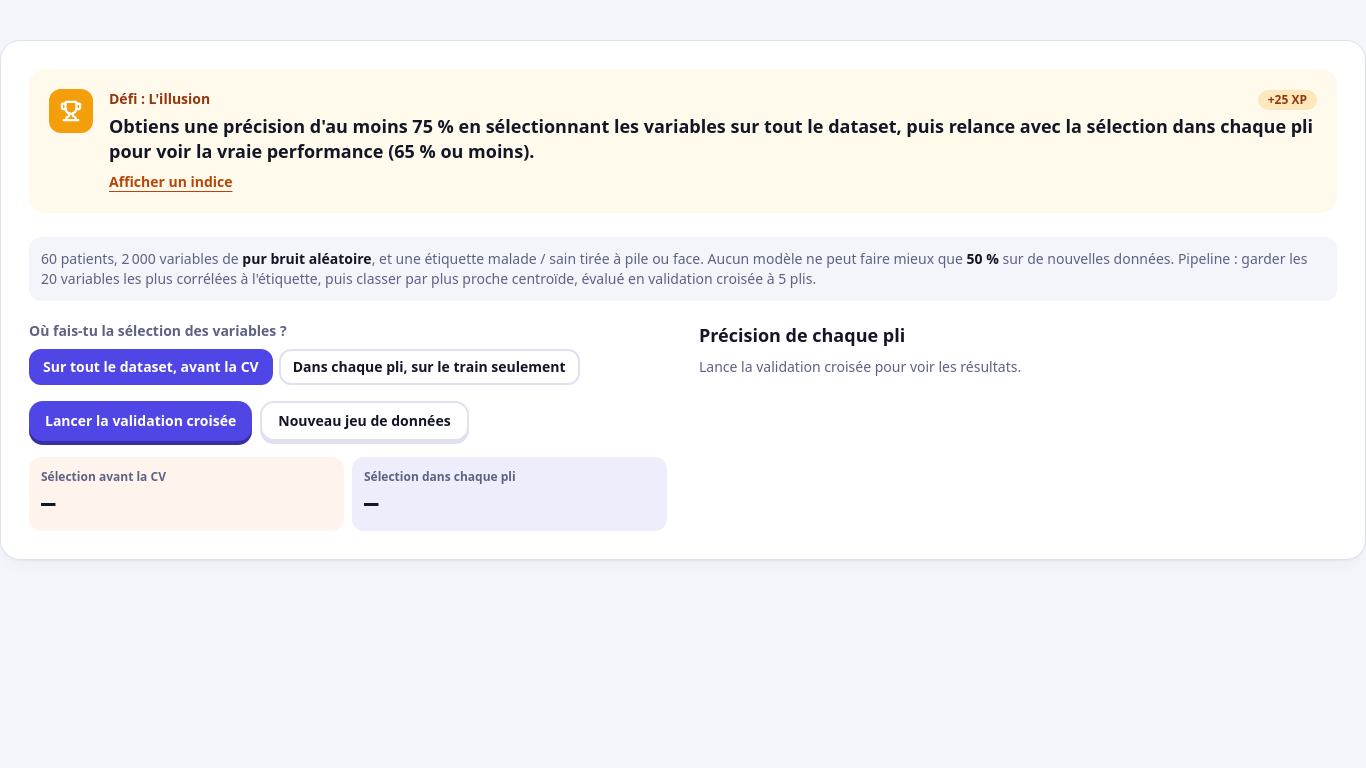
Test: labos modèles › LeakLab : les deux modes donnent l'illusion puis la vérité
This screenshot has width=1366, height=768.
What coordinates should you click on to do the following:
click the button "Lancer la validation croisée"
I would click on:
 (141, 420)
Its box is [29,400,252,440].
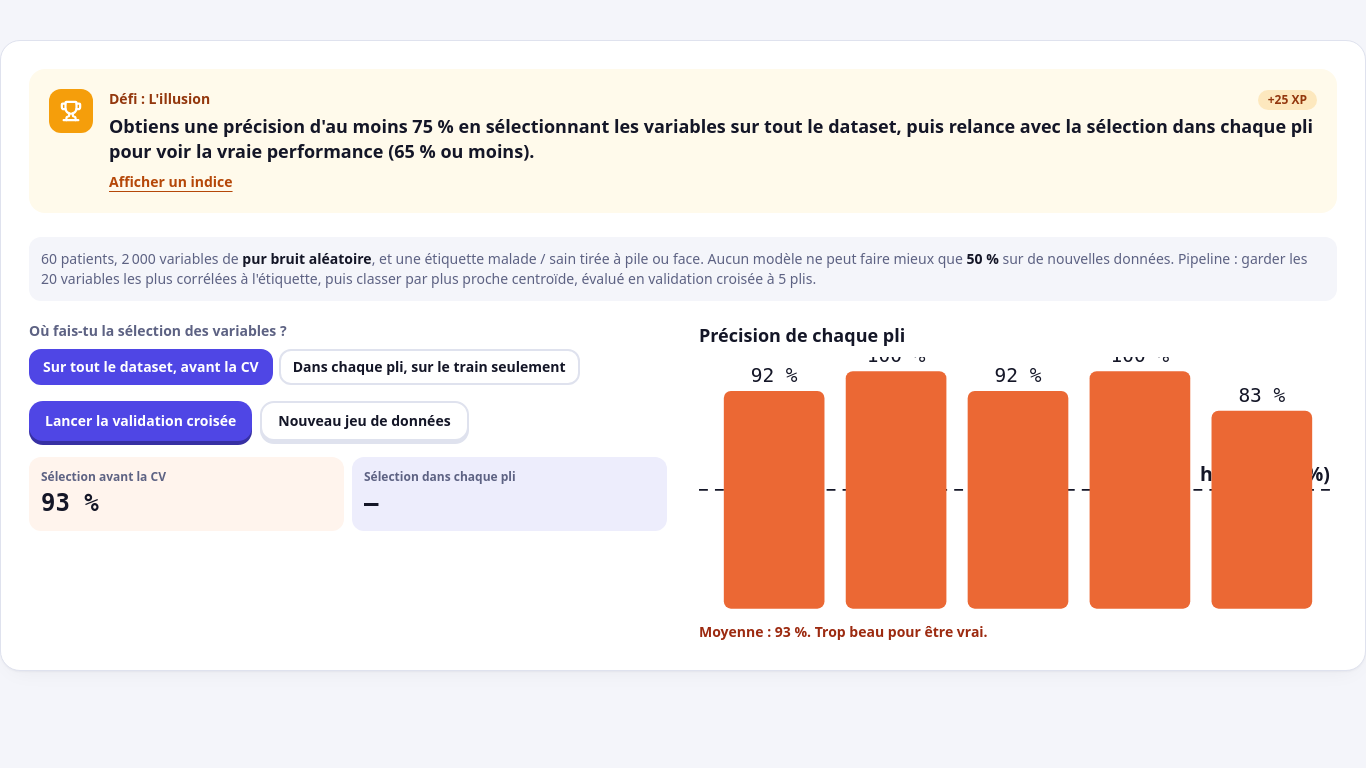
Expected: the text "Moyenne : 93 %. Trop beau pour être vrai." is shown, [699,622,988,641]
What coordinates should you click on to do the following:
click the radio button "Dans chaque pli, sur le train seulement"
I would click on:
 (429, 366)
Its box is [279,348,580,384].
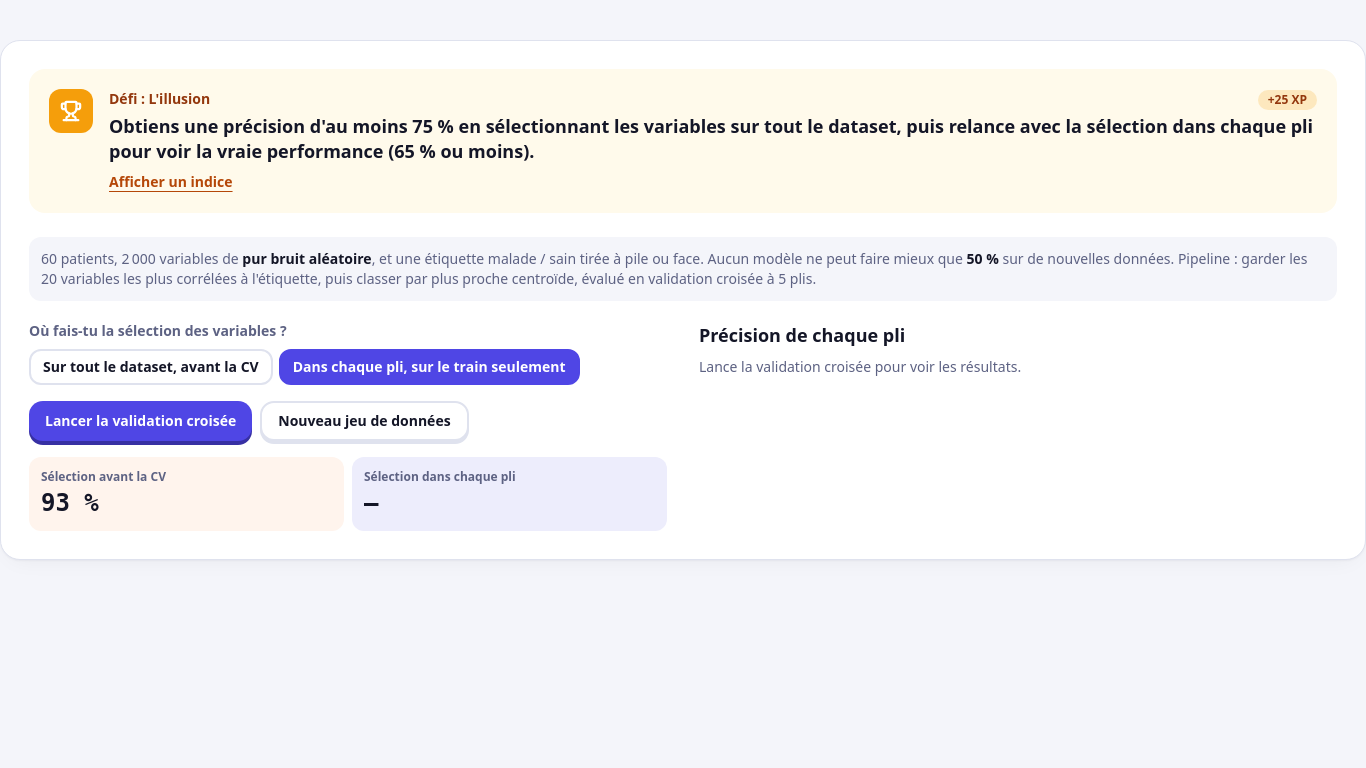
What coordinates should you click on to do the following:
click the button "Lancer la validation croisée"
I would click on:
 (141, 420)
Its box is [29,400,252,440].
Wait 600 ms
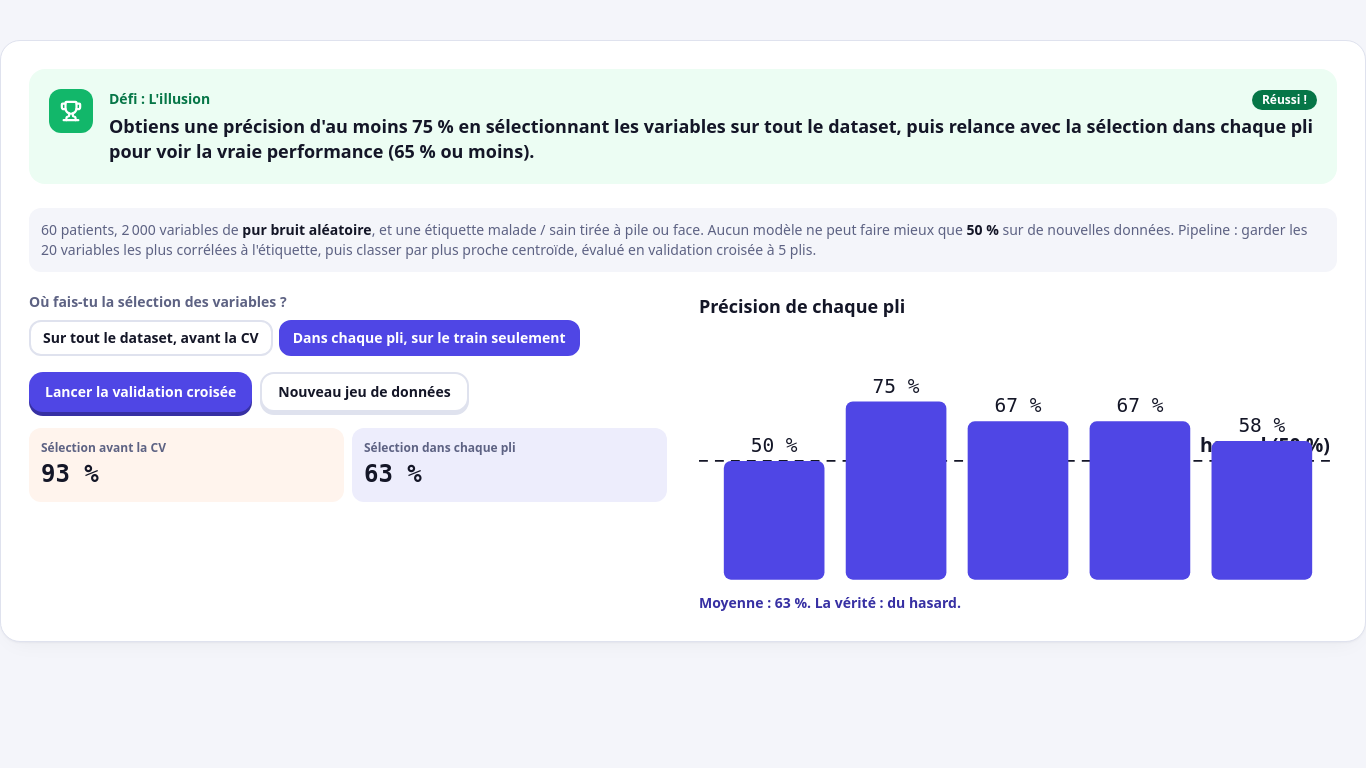
Expected: the text "Moyenne : 63 %. La vérité : du hasard." is shown, [699,593,961,612]
